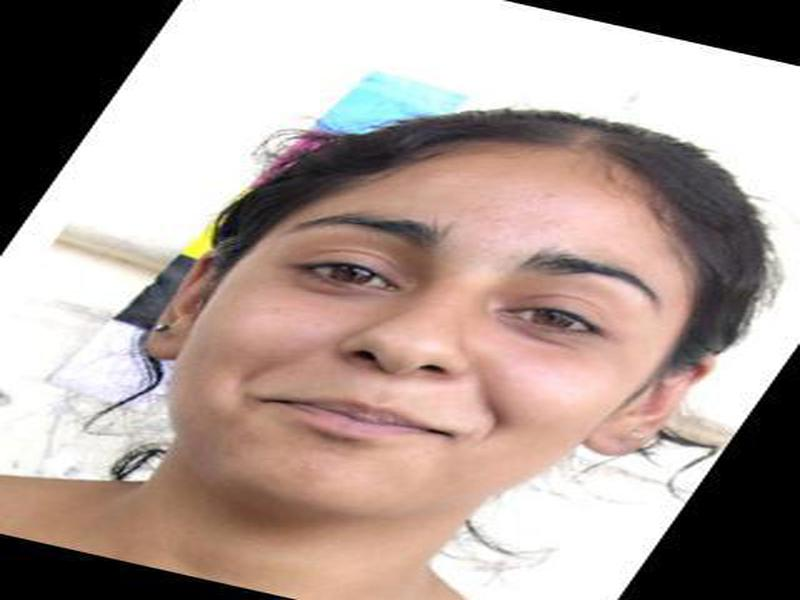without_mask: (179, 147, 676, 529)
